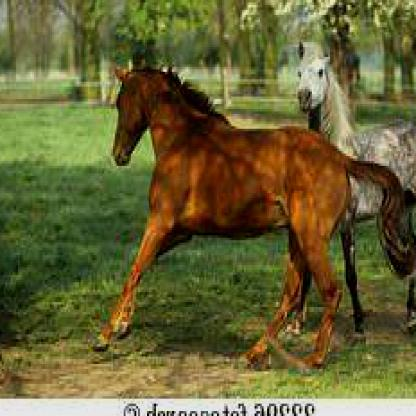horse: (91, 59, 416, 374), (292, 37, 416, 344)
